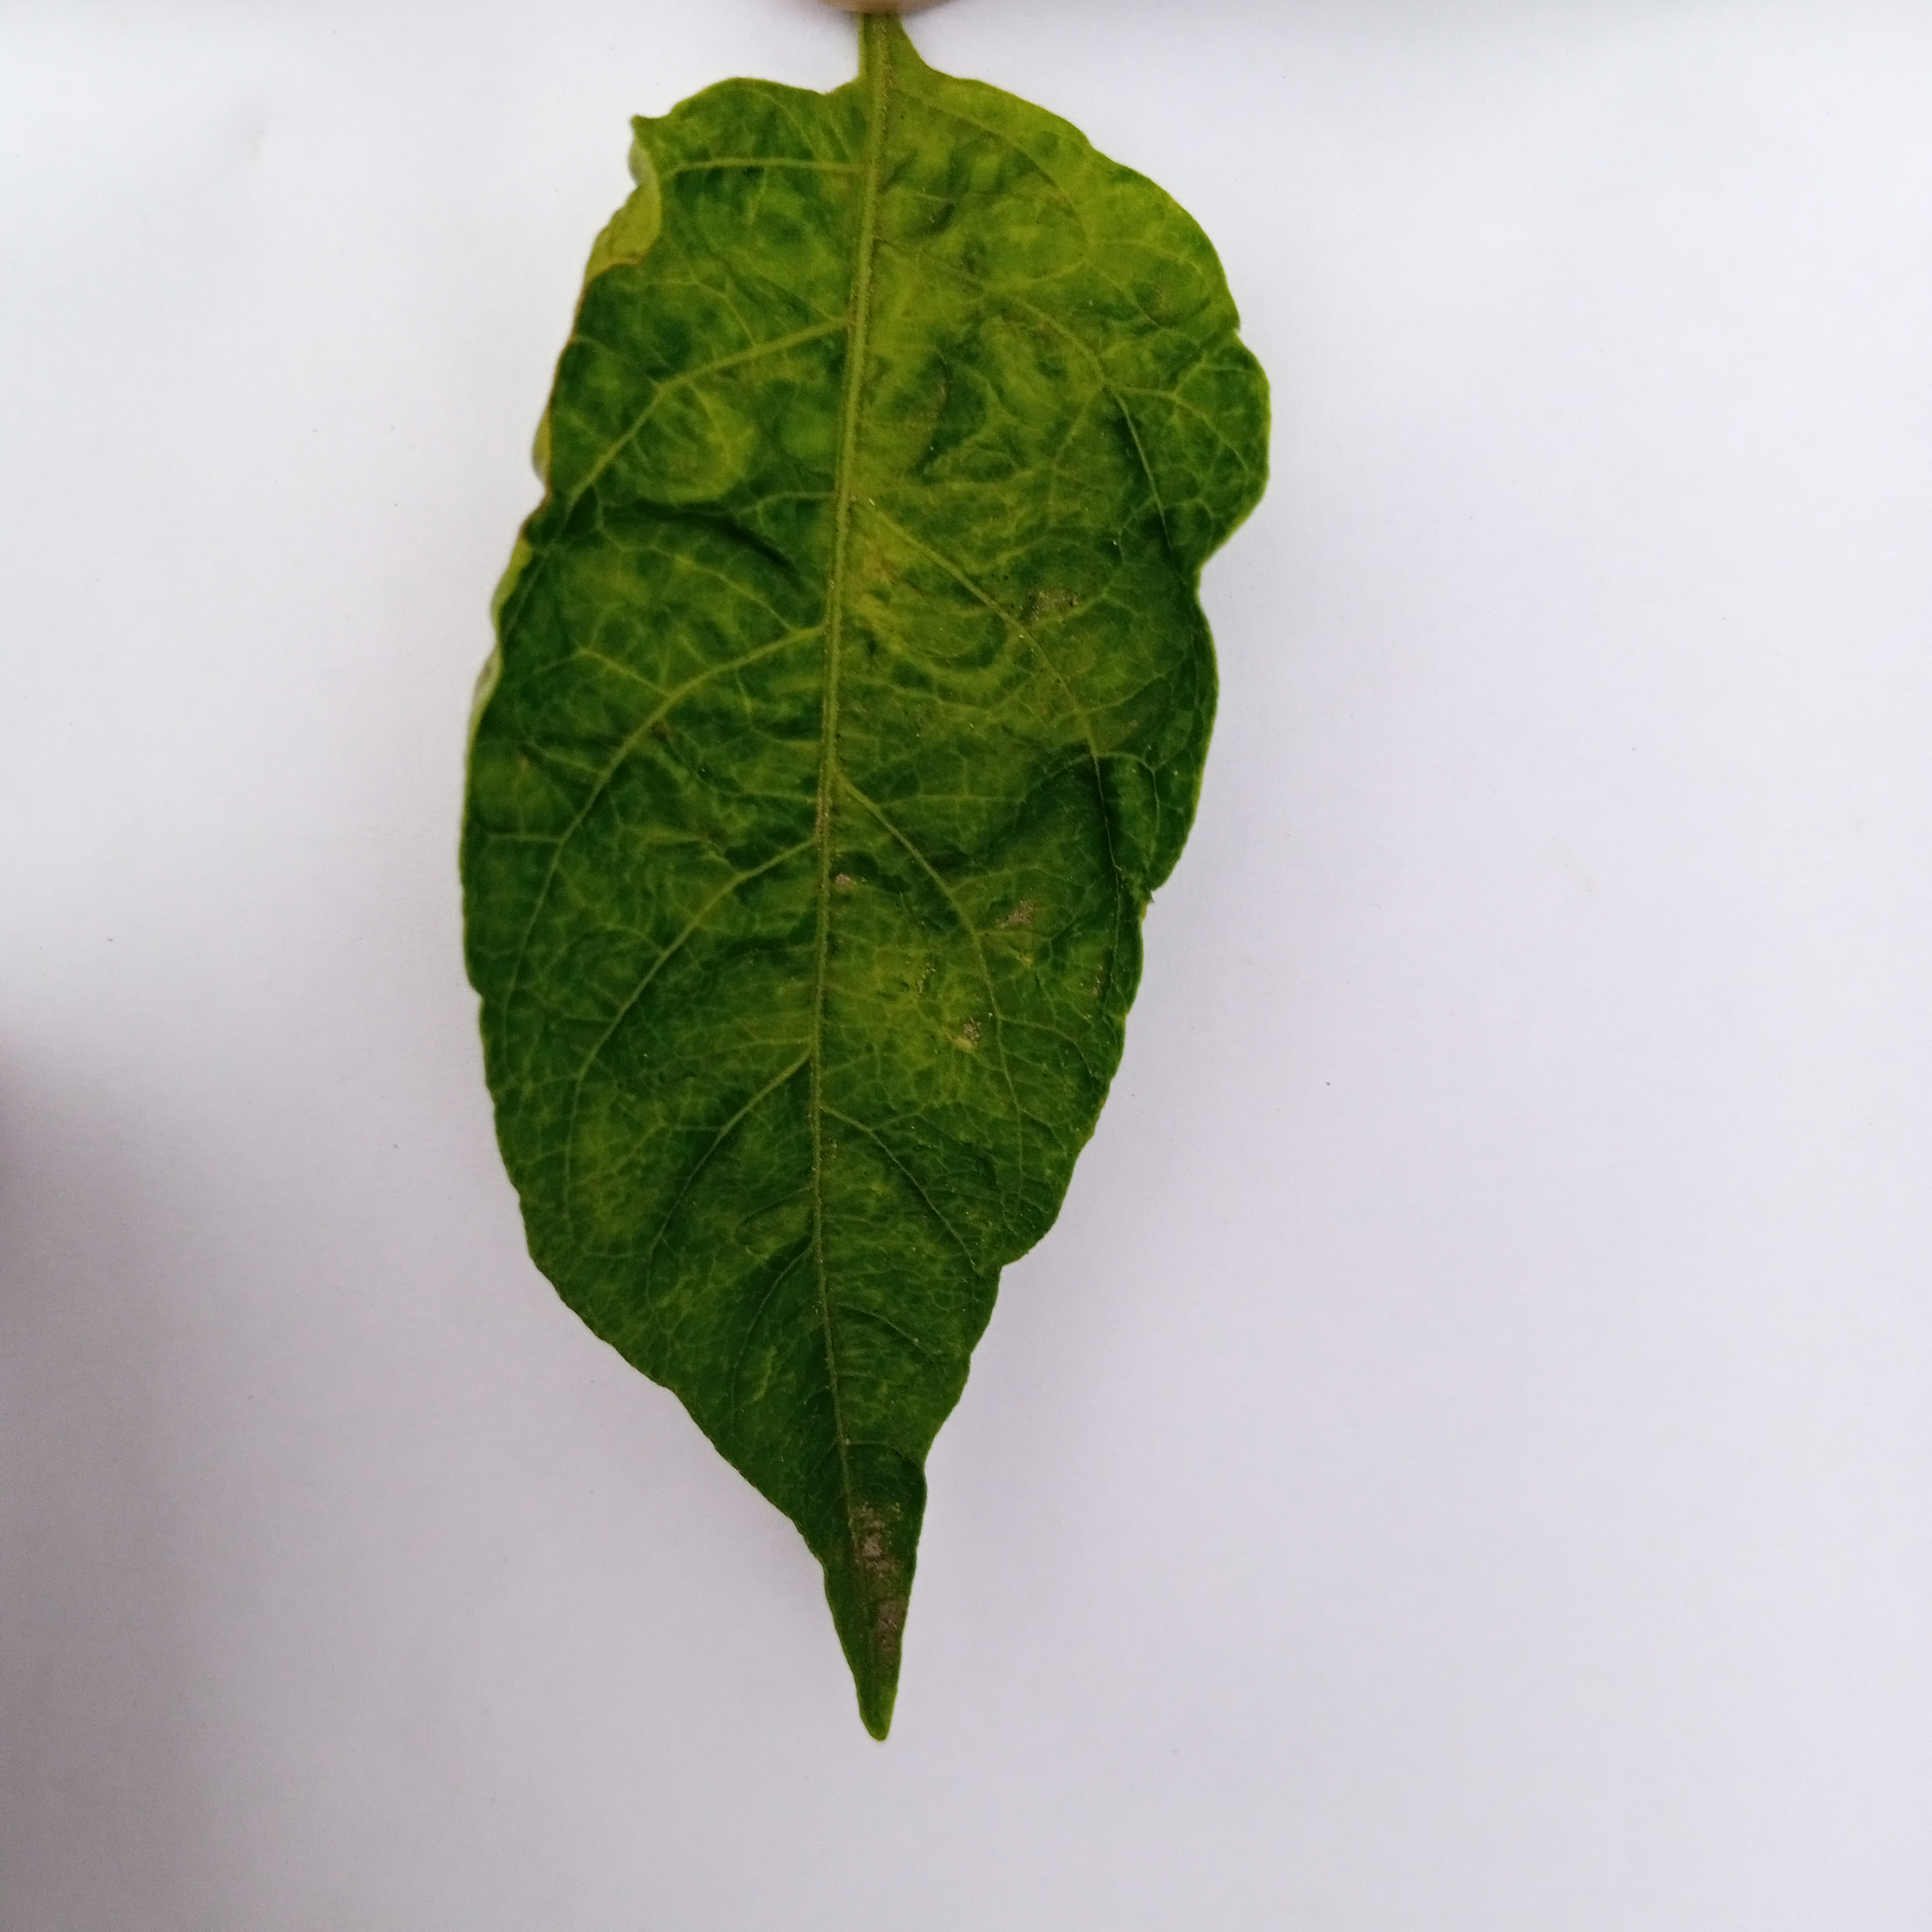Leaf: (426, 44, 1380, 1771)
